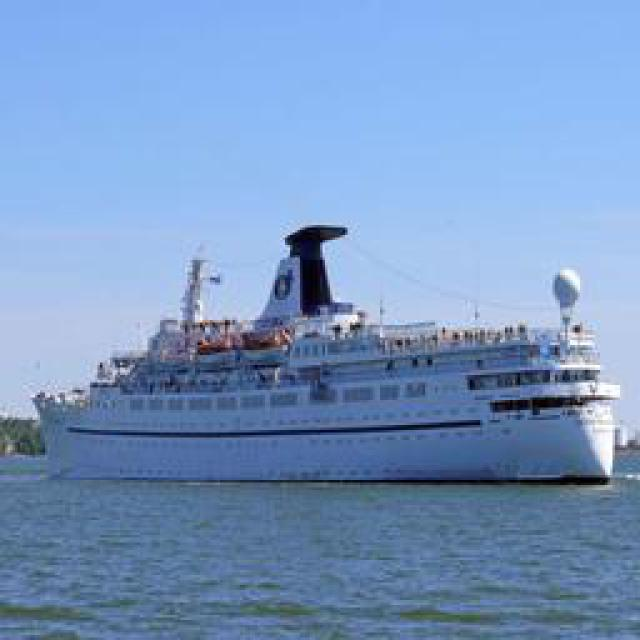Ship: (27, 222, 630, 485)
